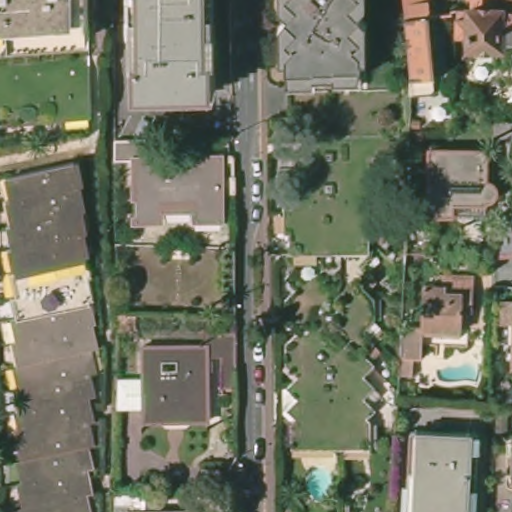pool: (433, 361, 483, 384), (300, 465, 331, 501)
